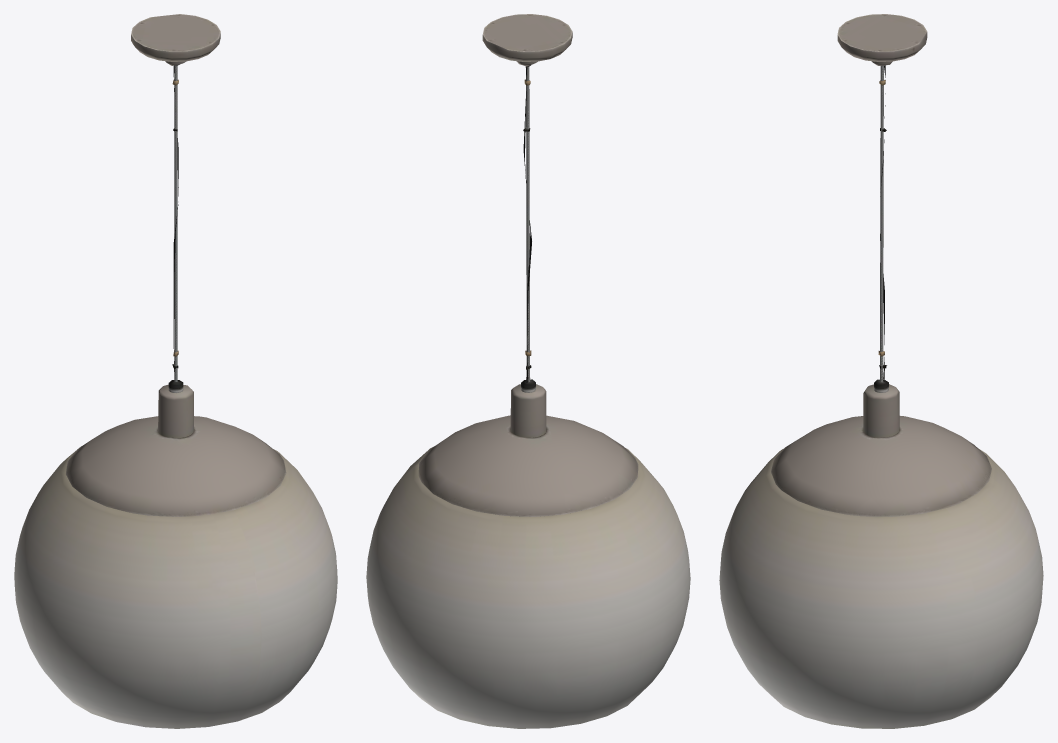
Rendered from modern_ceiling_lamp_01.glb.
3 renders of one model, left to right at view 1: azimuth 30°, elevation 25°; view 2: azimuth 150°, elevation 25°; view 3: azimuth 270°, elevation 25°, orthographic.
Parts seen in each view (by area): view 1: modern_ceiling_lamp_01; view 2: modern_ceiling_lamp_01; view 3: modern_ceiling_lamp_01.
Part boxes in pixels (x1,y1,x2,y2): modern_ceiling_lamp_01: (14, 14, 337, 728); modern_ceiling_lamp_01: (366, 14, 690, 728); modern_ceiling_lamp_01: (719, 14, 1043, 728).
Size of the model in its own units: 0.4316 by 0.9512 by 0.4316.
2 materials, 2 textured.
